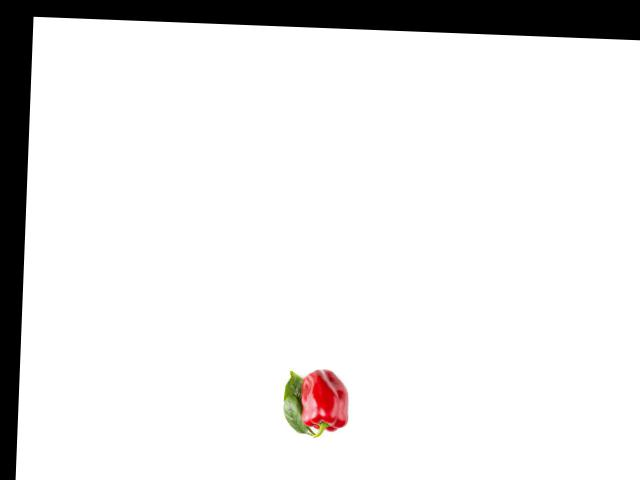bell_pepper: (296, 366, 356, 438)
